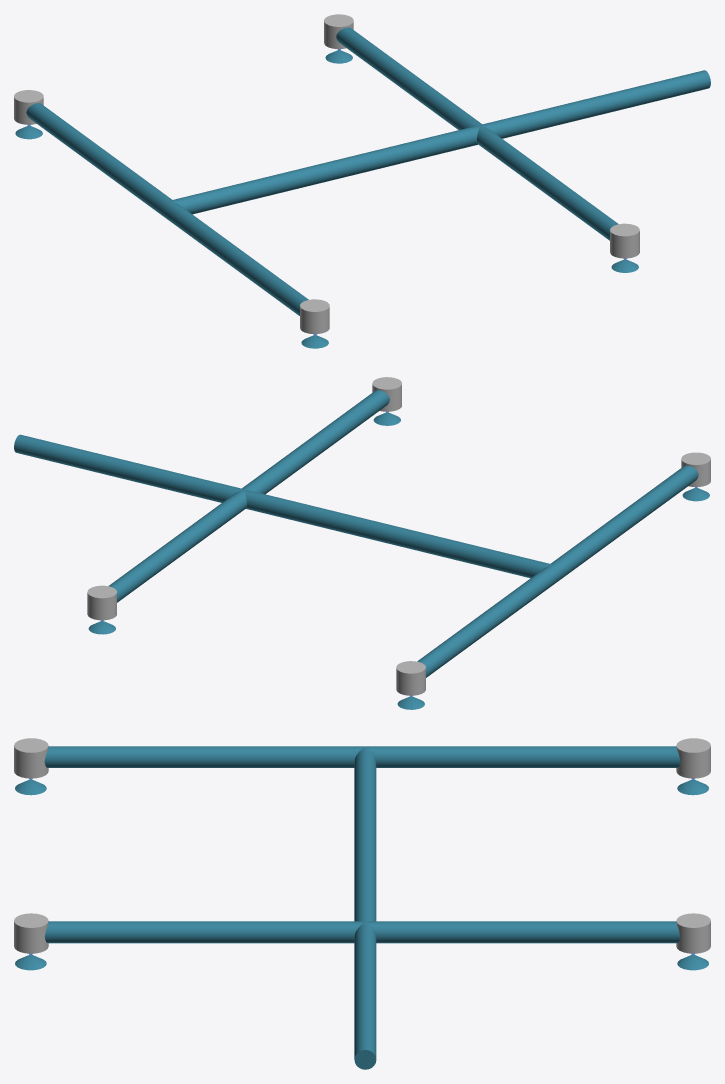
The model's file is Sprinklers.fbx.
3 views of the same model, one above another, from view 1: azimuth 30°, elevation 25°; view 2: azimuth 150°, elevation 25°; view 3: azimuth 270°, elevation 25° (orthographic). The views are drawn at different scales.
Visible parts, largest first — view 1: pCylinder1, pCylinder2, pCylinder3, polySurface1, polySurface6, polySurface5, polySurface4; view 2: pCylinder1, pCylinder2, pCylinder3, polySurface4, polySurface5, polySurface6, polySurface1; view 3: pCylinder3, pCylinder2, pCylinder1, polySurface1, polySurface4, polySurface5, polySurface6.
Boxes of the visible parts, <box> form: pCylinder1: <box>171,70,710,214</box>; pCylinder2: <box>26,103,308,315</box>; pCylinder3: <box>336,27,618,240</box>; polySurface1: <box>610,223,639,272</box>; polySurface6: <box>300,299,329,348</box>; polySurface5: <box>14,90,43,139</box>; polySurface4: <box>324,14,353,63</box>; pCylinder1: <box>14,434,551,578</box>; pCylinder2: <box>417,465,698,677</box>; pCylinder3: <box>108,390,389,602</box>; polySurface4: <box>87,585,116,634</box>; polySurface5: <box>396,661,425,709</box>; polySurface6: <box>681,452,710,501</box>; polySurface1: <box>372,377,401,425</box>; pCylinder3: <box>45,921,679,943</box>; pCylinder2: <box>44,746,680,767</box>; pCylinder1: <box>354,747,376,1069</box>; polySurface1: <box>14,913,48,970</box>; polySurface4: <box>676,913,710,970</box>; polySurface5: <box>676,738,710,795</box>; polySurface6: <box>14,738,48,795</box>.
Bounding box in the file's own units: 26.27 × 1.69 × 24.96.
